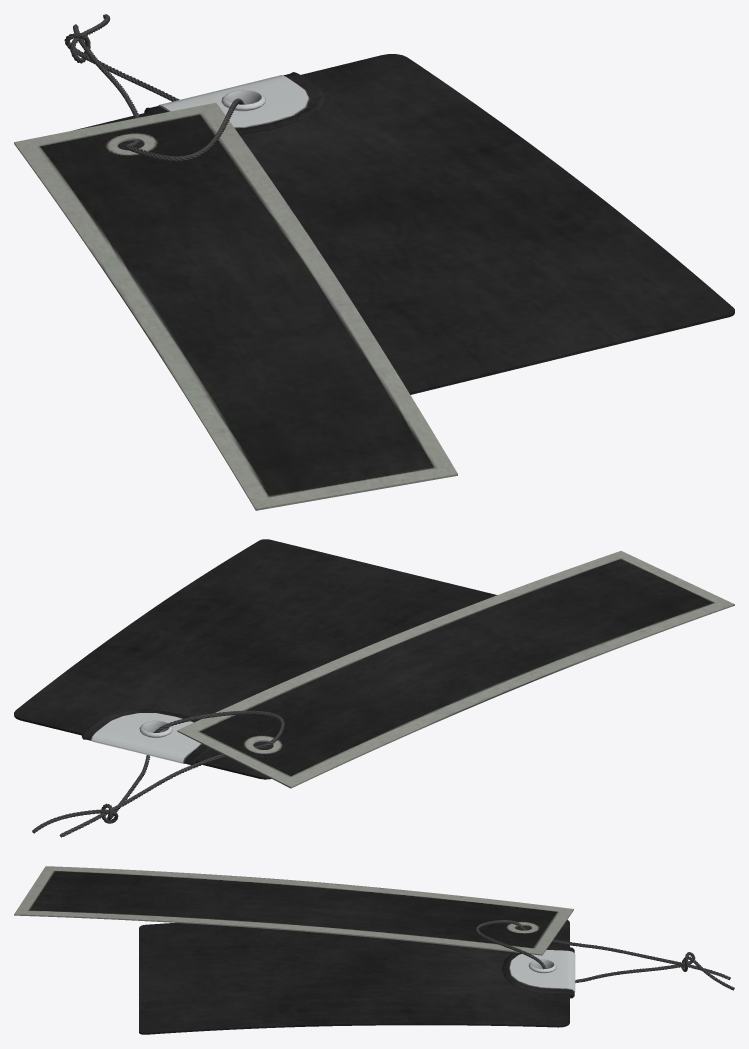
File: Label.glb
3 views of the same model, one above another, from view 1: azimuth 30°, elevation 25°; view 2: azimuth 150°, elevation 25°; view 3: azimuth 270°, elevation 25° (orthographic). The views are drawn at different scales.
Visible parts, largest first — view 1: Lable_V3_Lable_02_001, Lable_V3_Lable_01_001, Lable_V3_Metal_01_001, Lable_V3_Rope_001; view 2: Lable_V3_Lable_01_001, Lable_V3_Lable_02_001, Lable_V3_Metal_01_001, Lable_V3_Rope_001; view 3: Lable_V3_Lable_02_001, Lable_V3_Lable_01_001, Lable_V3_Metal_01_001, Lable_V3_Rope_001, Lable_V3_Metal_02_001.
Boxes of the visible parts, <box> form: Lable_V3_Lable_02_001: <box>73,54,734,394</box>; Lable_V3_Lable_01_001: <box>14,102,457,510</box>; Lable_V3_Metal_01_001: <box>144,72,325,134</box>; Lable_V3_Rope_001: <box>64,14,244,161</box>; Lable_V3_Lable_01_001: <box>177,551,734,788</box>; Lable_V3_Lable_02_001: <box>14,539,497,779</box>; Lable_V3_Metal_01_001: <box>82,709,210,765</box>; Lable_V3_Rope_001: <box>32,710,284,837</box>; Lable_V3_Lable_02_001: <box>139,920,569,1034</box>; Lable_V3_Lable_01_001: <box>14,866,573,955</box>; Lable_V3_Metal_01_001: <box>502,946,575,998</box>; Lable_V3_Rope_001: <box>476,920,734,990</box>; Lable_V3_Metal_02_001: <box>528,959,556,973</box>.
Size of the model in its own units: 7.55 by 0.5712 by 13.38.
Materials: 2 (2 with a texture image).
